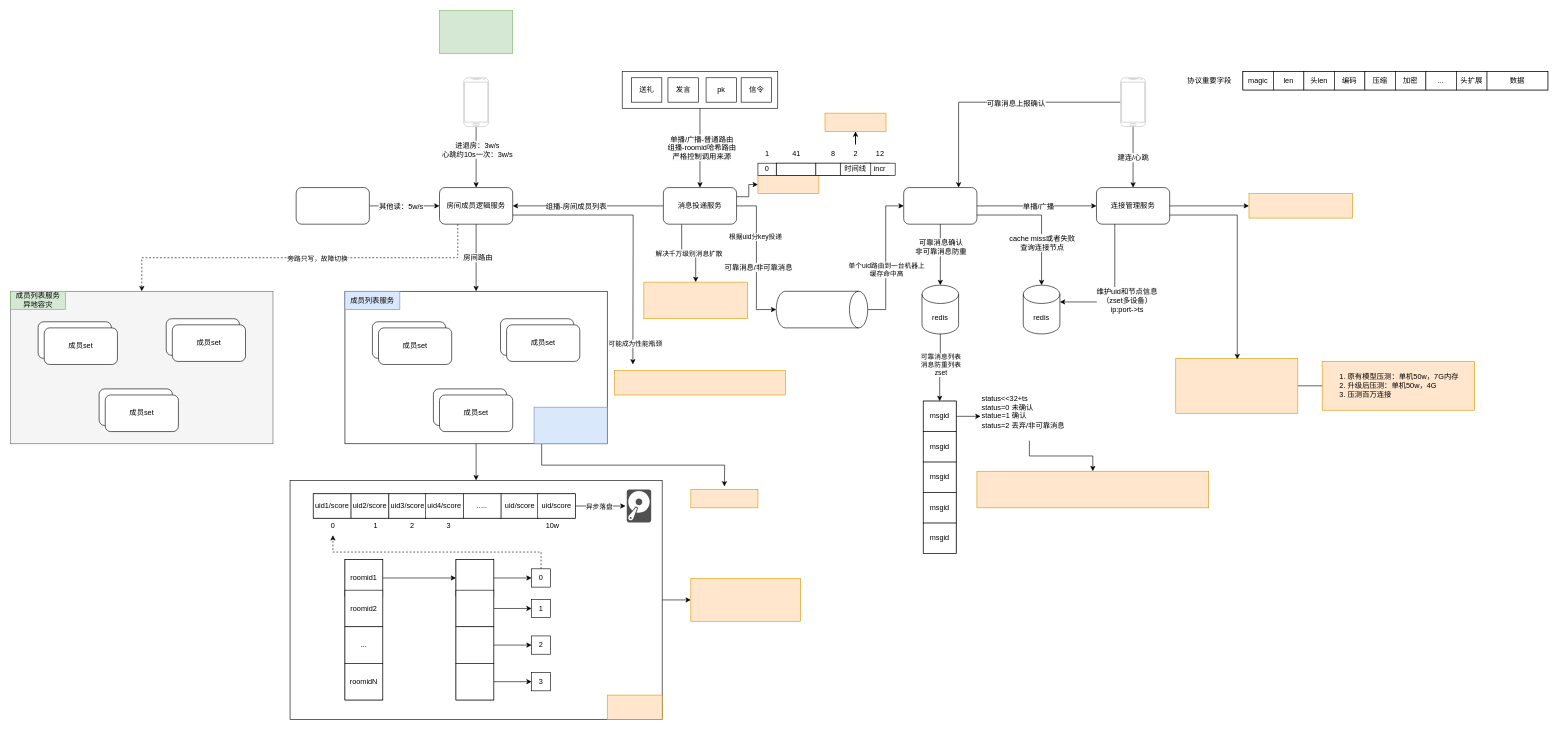
The diagram is 1559 pixels wide and 730 high, and some of its shapes have lost their labels. Each missing label, with the centre of its shape:
1.单房间消息合并 2.消息分级，消息丢弃 3.超大房间限流，降级丢弃: point (695, 300)
gonet->tnet网络模型优化 内存下降45% cpu下降20% 单机连接数提升100%: point (1236, 385)
oom排查和优化: point (724, 498)
PCU：30w DAU：420w 单房间最大：10w 日活主播：4w: point (476, 31)
uid1: point (474, 577)
uid2: point (474, 608)
uid3: point (474, 644)
uid4: point (474, 681)
优化：连接层支持组播方案 解决超大直播间网卡瓶颈: point (1300, 205)
全量拉取，100w房间，目前最大10w 数据量8mb，千兆网卡最大qps=1000/8/8=15qps: point (699, 382)
其他服务: point (332, 205)
单房间最多10w用户 单机 2w/s写 1.5w/s读: point (570, 425)
存储设计: point (634, 706)
快速筛选： 小于1<<32 就是未确认的消息，还能进一步根据时间筛选，进行重发 大于1>>32 的定期删除，防止列表过大: point (1092, 489)
推送逻辑服务: point (940, 205)
时间戳ms: point (796, 169)
机器: point (827, 169)
消息队列: point (822, 309)
碎片整理 支持持久化，快速重启: point (745, 599)
解决时钟回拨: point (855, 122)
雪花算法id生成: point (788, 184)
